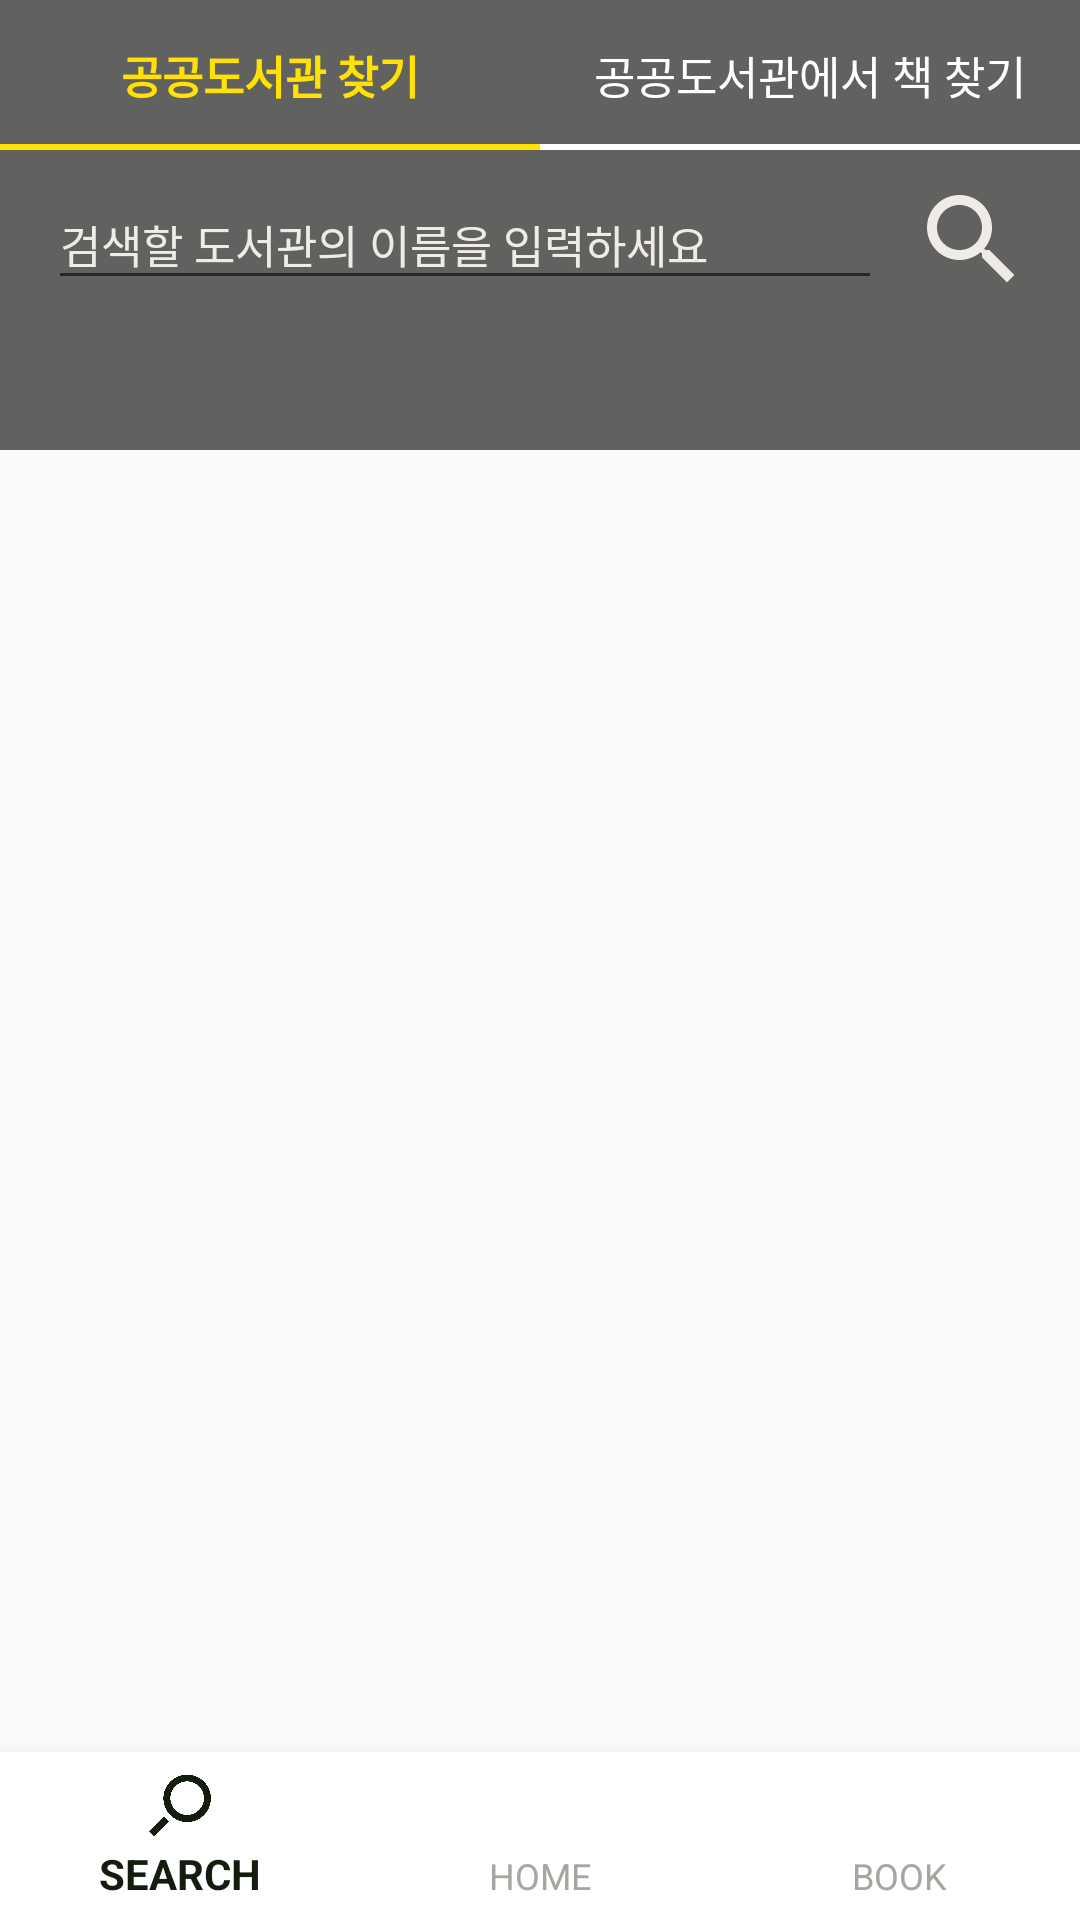

Named icons in this screenshot (1080×1920) and their centers, (x=x, y=y):
search: (x=970, y=238)
